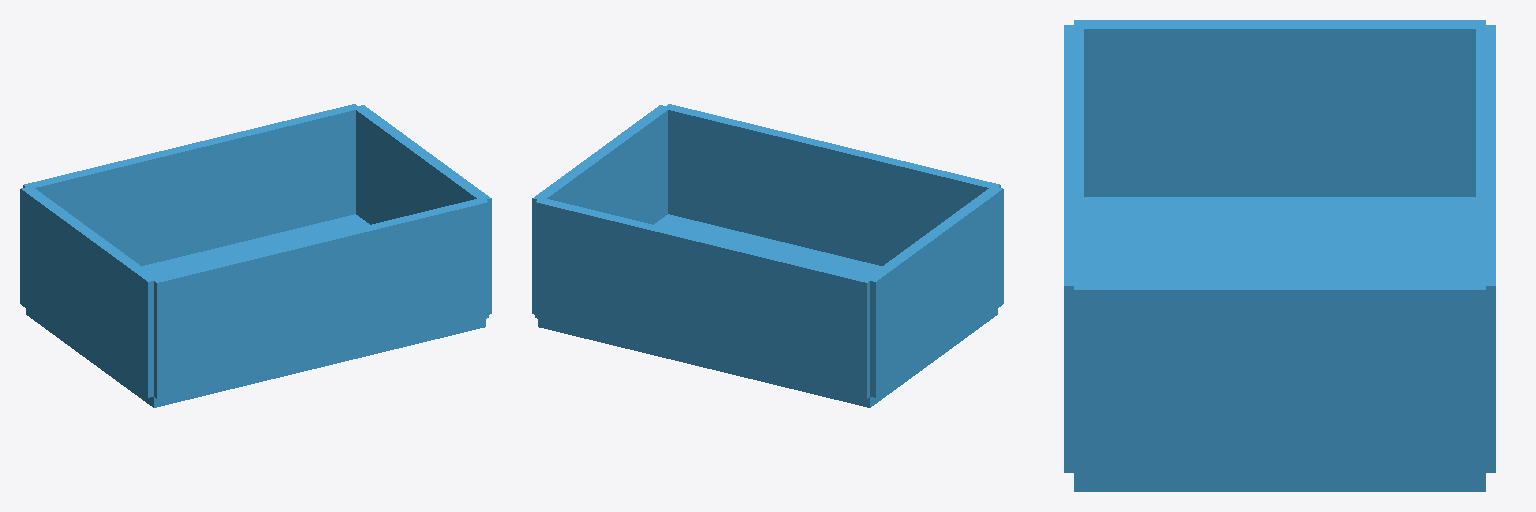
URDF robot description (bowl.urdf):
<?xml version="0.0" ?>
<robot name="bowl.urdf">

  <material name="yellow">
    <color rgba="1 1 0.4 1"/>
  </material>
  <material name="red">
    <color rgba="1 0 0 1"/>
  </material>
  <material name="blue">
    <color rgba=".17 .20 .38 1"/>
  </material>
  <material name="teal">
    <color rgba="0 .5 .5 1"/>
  </material>
  <material name="orange">
    <color rgba=".93 .6 .23 1"/>
  </material>

  <link name="world"/>

  <link name="base">
    <inertial>
      <origin rpy="0 0 0" xyz="0.0 0.0 0.0"/>
       <mass value=".1"/>
       <inertia ixx="1" ixy="0" ixz="0" iyy="1" iyz="0" izz="1"/>
    </inertial>
    <!-- <visual>
      <origin rpy="0 0 0" xyz="0 0 0"/>
      <geometry>
        <box size="1 1 0.5"/> -->
        <!-- <mesh filename="roboverse/envs/assets/objects/box/box.dae" scale="[phone redacted]"/> -->
      <!-- </geometry>
      <material name="teal"/>
    </visual> -->
    <visual>
      <!-- bottom -->
      <origin rpy="0 0 0" xyz="0 0 -0.25"/>
      <geometry>
        <box size="1.5 1 .1"/>
      </geometry>
    </visual>
    <visual>
      <!-- right -->
      <origin rpy="0 0 0" xyz="0 -.5 0"/>
      <geometry>
        <box size="1.5 .05 .5"/>
      </geometry>
    </visual>
    <visual>
      <!-- left -->
      <origin rpy="0 0 0" xyz="0 .5 0"/>
      <geometry>
        <box size="1.5 .05 .5"/>
      </geometry>
    </visual>
    <visual>
      <!-- front -->
      <origin rpy="0 0 0" xyz=".75 0 0"/>
      <geometry>
        <box size=".05 1 .5"/>
      </geometry>
    </visual>
    <visual>
      <!-- back -->
      <origin rpy="0 0 0" xyz="-.75 0 0"/>
      <geometry>
        <box size=".05 1 .5"/>
      </geometry>
    </visual>
    <collision>
      <!--bottom-->
      <origin rpy="0 0 0" xyz="0 0 -.25"/>
      <geometry>
        <box size="1.5 1 .1"/>
      </geometry>
    </collision>
    <collision>
      <!-- right -->
      <origin rpy="0 0 0" xyz="0 -.5 0"/>
      <geometry>
        <box size="1.5 .05 .5"/>
      </geometry>
    </collision>
    <collision>
      <!-- left -->
      <origin rpy="0 0 0" xyz="0 .5 0"/>
      <geometry>
        <box size="1.5 .05 .5"/>
      </geometry>
    </collision>
    <collision>
      <!-- front -->
      <origin rpy="0 0 0" xyz=".75 0 0"/>
      <geometry>
        <box size=".05 1 .5"/>
      </geometry>
    </collision>
    <collision>
      <!-- back -->
      <origin rpy="0 0 0" xyz="-.75 0 0"/>
      <geometry>
        <box size=".05 1 .5"/>
      </geometry>
    </collision>
  </link>

  <joint name="base_joint" type="fixed">
    <parent link="world"/>
    <child link="base"/>
  </joint>

</robot>

--- Facts derived from the render (not from the file) ---
3 views of the same robot in one strip: view 1: azimuth 30°, elevation 25°; view 2: azimuth 150°, elevation 25°; view 3: azimuth 270°, elevation 25° (orthographic).
Robot: bowl.urdf — 2 links, 1 joints (1 fixed); root link world; default pose: all joints at 0.
Visible links, largest first — view 1: base; view 2: base; view 3: base.
Link boxes in pixels (x1=…): base: x1=20, y1=104, x2=491, y2=407; base: x1=532, y1=104, x2=1003, y2=407; base: x1=1064, y1=20, x2=1495, y2=491.
Bounding box of the posed robot: 1.55 × 1.05 × 0.55 m (x, y, z).
Geometry: primitives only (box / cylinder / sphere), no mesh files.